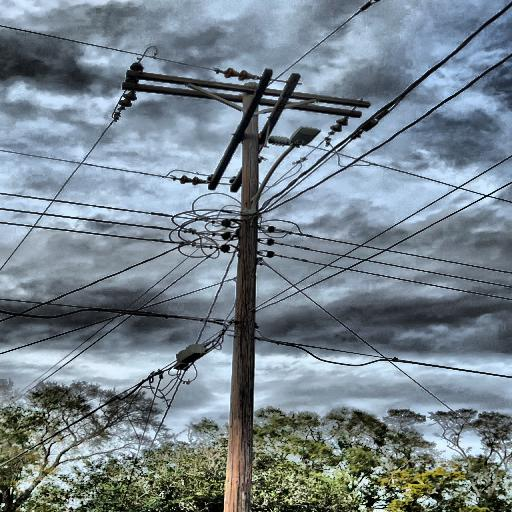pole: (199, 79, 268, 512)
street light: (244, 125, 332, 224)
